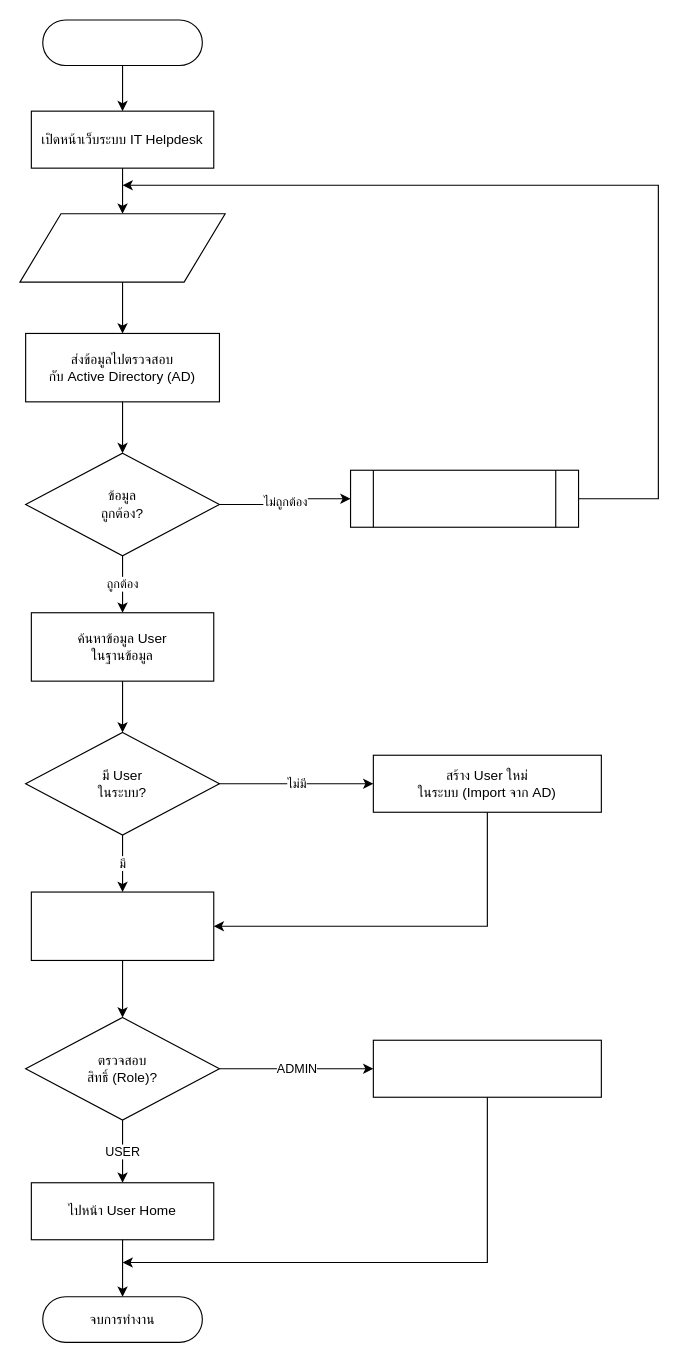
This 687x1362 diagram has some shape labels left out. The shapes that lost their labels are listed below. From the top down, each one's box as (x1, y1, x2, y2) in pixels, then its label:
(42, 19, 202, 66): เริ่มต้น
(19, 213, 225, 282): กรอก Username และ Password
(349, 469, 579, 527): แสดงข้อความ Error (รหัสผ่านไม่ถูกต้อง)
(30, 891, 214, 960): สร้าง JWT Token (อายุ 20 นาที)
(372, 1039, 601, 1097): ไปหน้า IT Dashboard (Admin Home)
